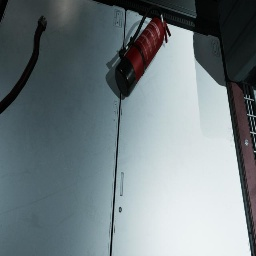FireExtinguisher ]: (115, 4, 171, 98)
